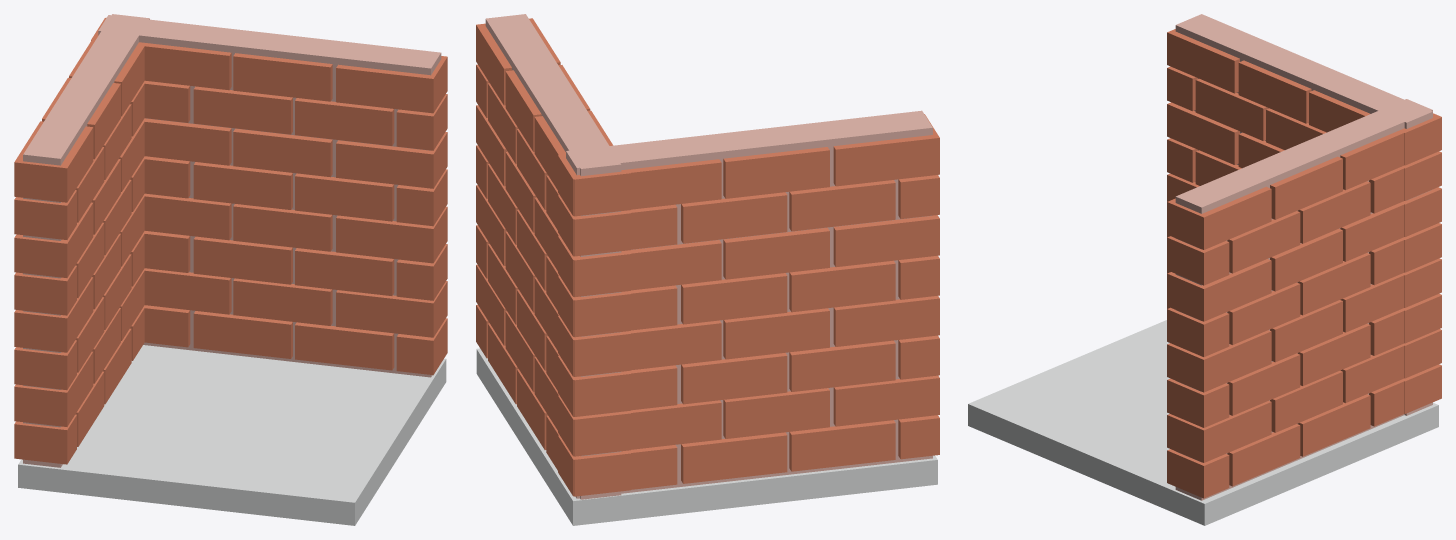
File: duvar 2.1.1.fbx
3 views of the same model, side by side, from view 1: azimuth 30°, elevation 25°; view 2: azimuth 150°, elevation 25°; view 3: azimuth 270°, elevation 25° (orthographic). The views are drawn at different scales.
Visible parts, largest first — view 1: zemin2; view 2: zemin2; view 3: zemin2.
Part boxes in pixels (<box>): zemin2: <box>14,14,447,525</box>; zemin2: <box>476,14,939,525</box>; zemin2: <box>968,14,1441,525</box>.
Size of the model in its own units: 1740 by 1275 by 1737.
